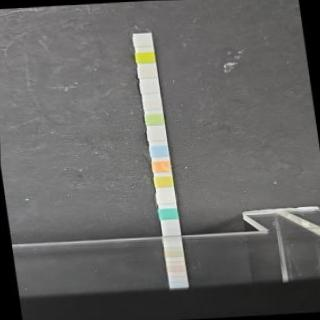mark: (143, 96, 161, 110), (136, 49, 154, 63), (146, 112, 163, 126), (150, 144, 168, 157), (140, 79, 158, 92), (156, 192, 175, 204), (155, 175, 172, 188), (152, 160, 170, 172), (148, 128, 166, 140), (138, 65, 156, 77), (133, 34, 151, 46), (159, 208, 176, 220)
